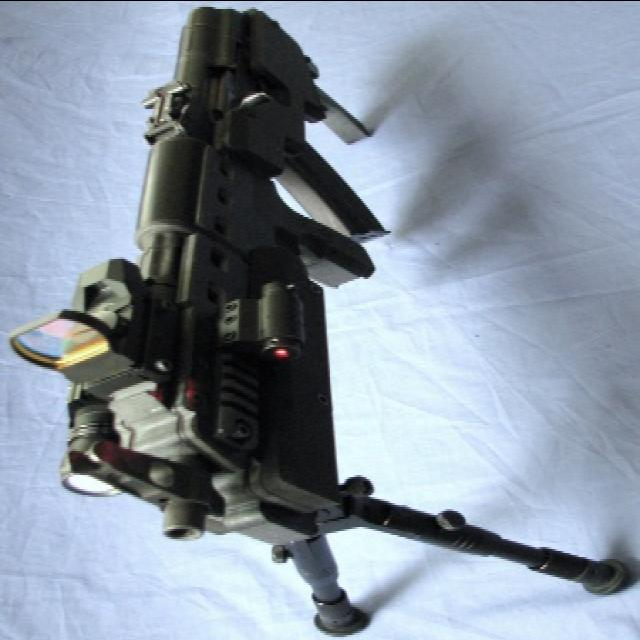rifle: (48, 3, 528, 639)
